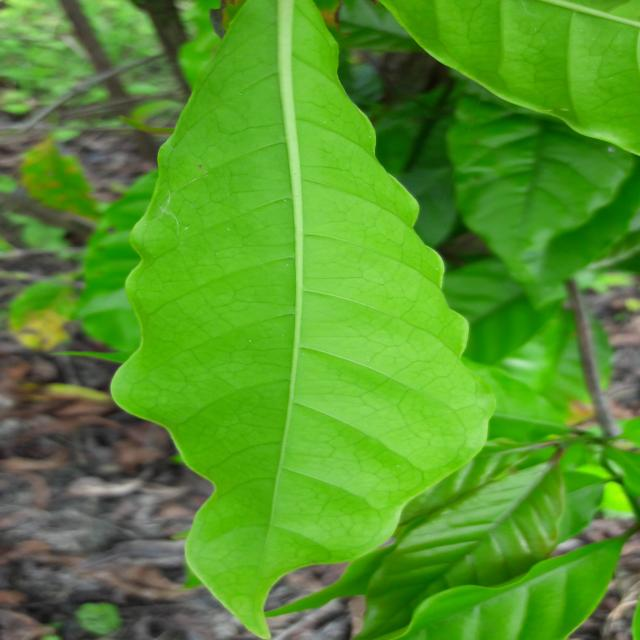Sanas: (109, 0, 501, 640)
